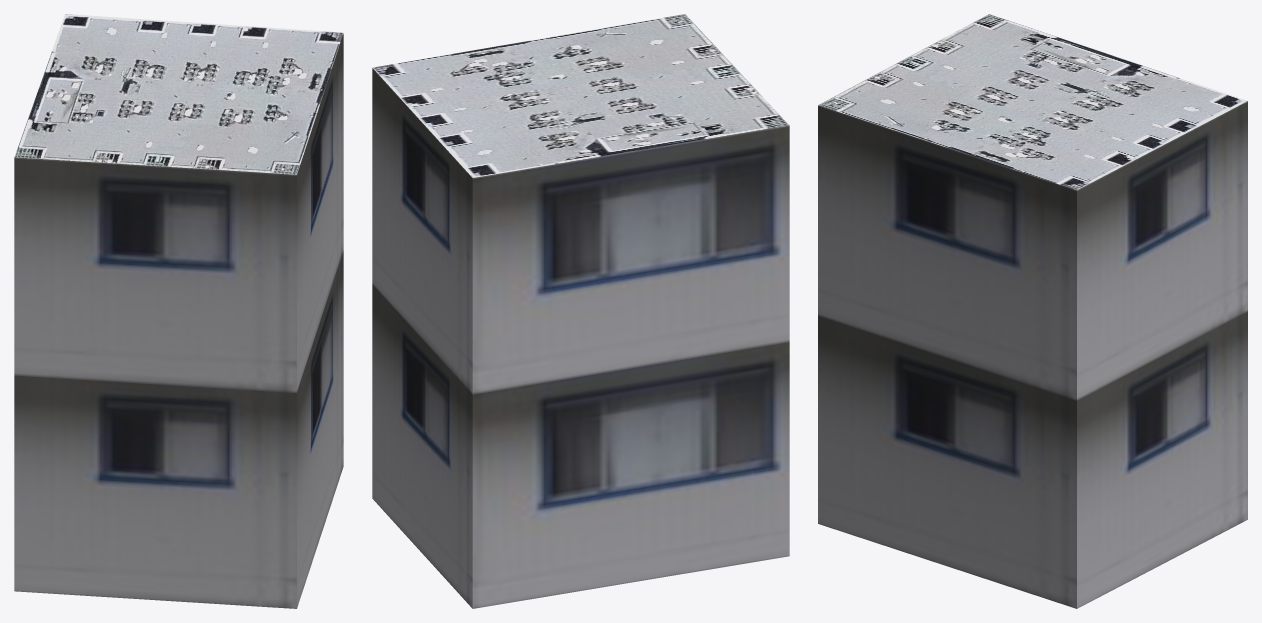
File: ResTex__1093.fbx
3 views of the same model, side by side, from view 1: azimuth 30°, elevation 25°; view 2: azimuth 150°, elevation 25°; view 3: azimuth 270°, elevation 25° (orthographic). The views are drawn at different scales.
Visible parts, largest first — view 1: CityEngineMaterial_9_m, CityEngineMaterial_2_m; view 2: CityEngineMaterial_9_m, CityEngineMaterial_2_m; view 3: CityEngineMaterial_9_m, CityEngineMaterial_2_m.
Boxes of the visible parts, bbox=[...] form: CityEngineMaterial_9_m: bbox=[14, 33, 343, 608]; CityEngineMaterial_2_m: bbox=[14, 14, 343, 174]; CityEngineMaterial_9_m: bbox=[372, 68, 789, 608]; CityEngineMaterial_2_m: bbox=[373, 14, 788, 177]; CityEngineMaterial_9_m: bbox=[818, 101, 1247, 608]; CityEngineMaterial_2_m: bbox=[818, 14, 1247, 190].
Size of the model in its own units: 5.42 by 6 by 5.58.
Materials: 2 (2 with a texture image).
